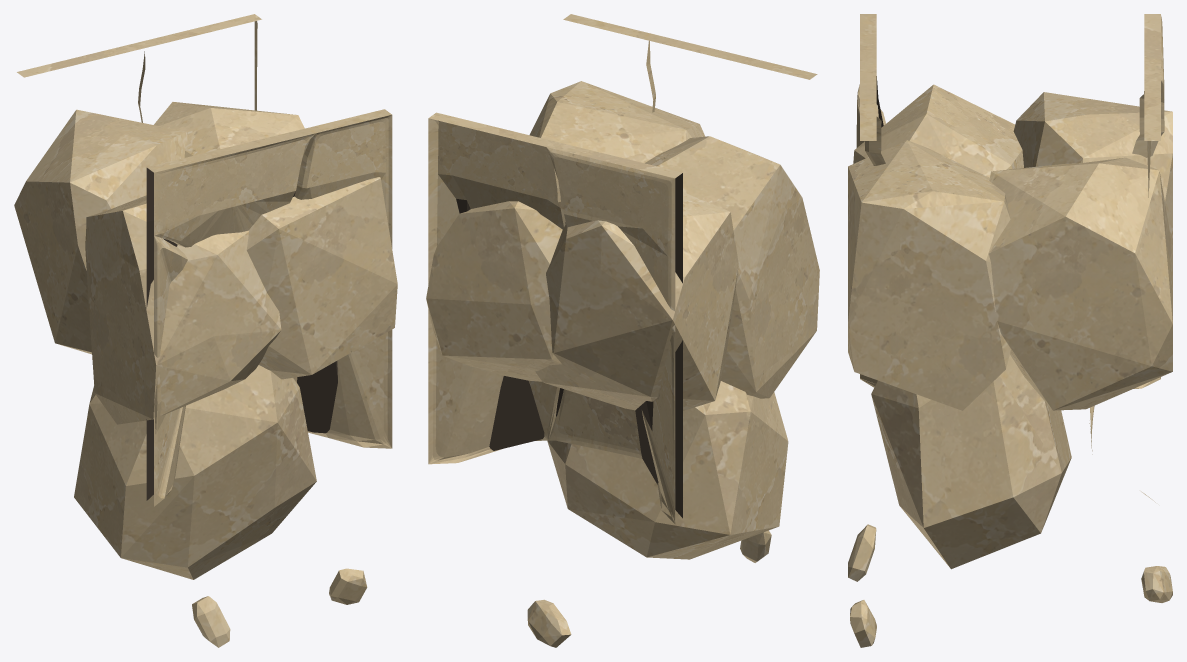
The model's file is ground_bottom_square_strip_06.glb.
3 renders of one model, left to right at view 1: azimuth 30°, elevation 25°; view 2: azimuth 150°, elevation 25°; view 3: azimuth 270°, elevation 25°, orthographic. The views are drawn at different scales.
Visible parts, largest first — view 1: GroundBottomSquareStrip06_Body; view 2: GroundBottomSquareStrip06_Body; view 3: GroundBottomSquareStrip06_Body.
Part boxes in pixels (x1=…): GroundBottomSquareStrip06_Body: x1=14, y1=14, x2=397, y2=647; GroundBottomSquareStrip06_Body: x1=426, y1=14, x2=819, y2=647; GroundBottomSquareStrip06_Body: x1=848, y1=14, x2=1172, y2=647.
Bounding box in the file's own units: 1 × 1.96 × 1.08.
8 materials, 7 textured.
